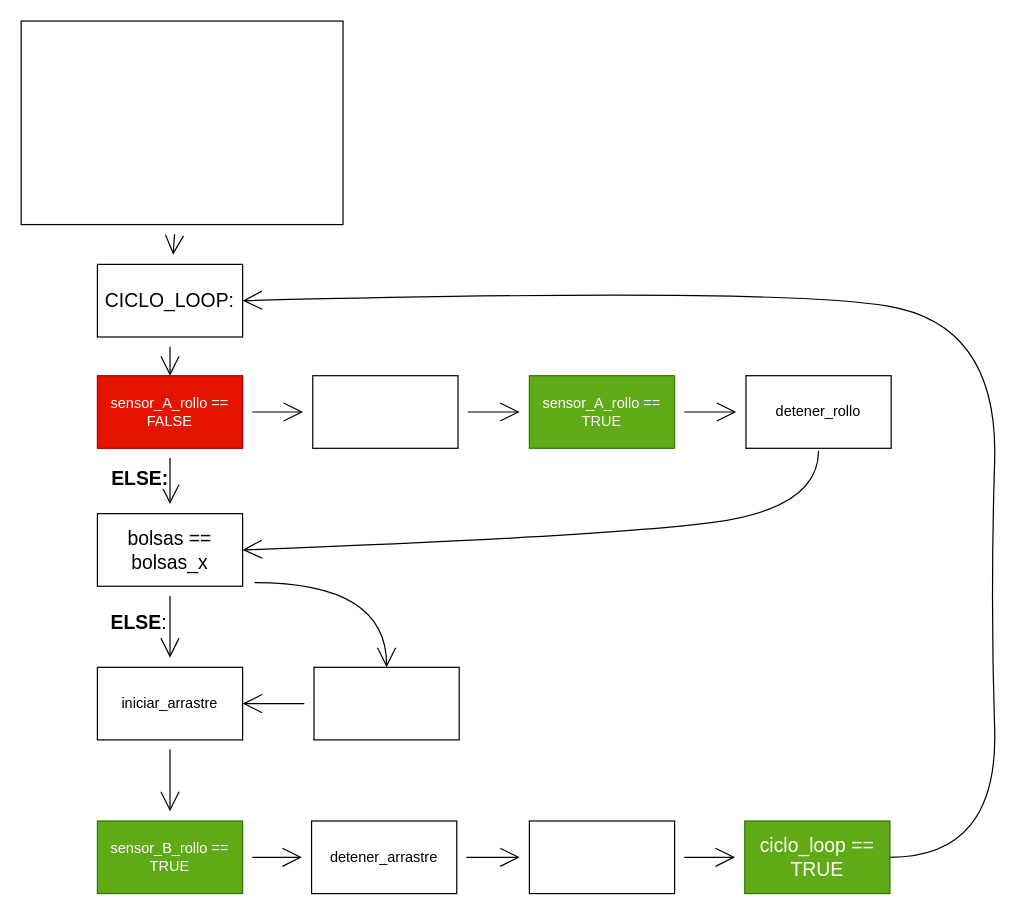
This 1016x916 diagram has some shape labels left out. Each missing label, with the box of its shape:
bolsas = bolsas +1: (528, 820, 675, 894)
iniciar_rollo: (312, 374, 458, 448)
sellado_vertical: (313, 666, 459, 740)
START: bolsas = 0 ciclo_loop = False: (20, 20, 343, 225)
